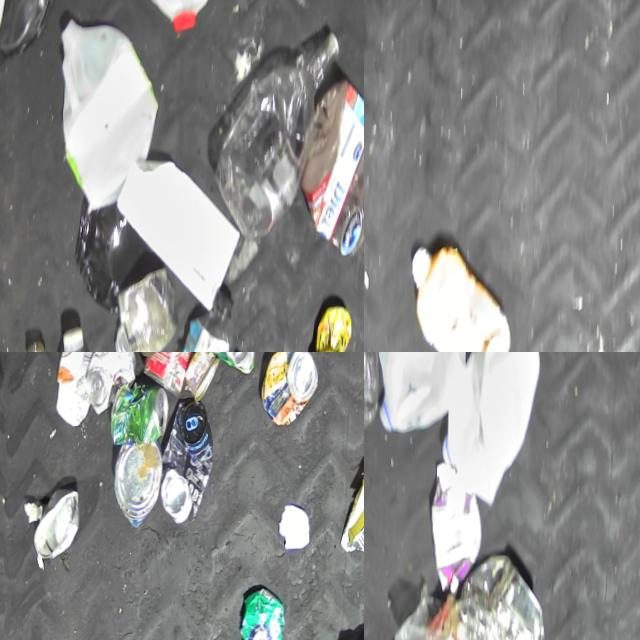can: (443, 551, 545, 640), (157, 403, 213, 529), (107, 263, 181, 352), (259, 352, 317, 432), (111, 444, 161, 533), (111, 382, 169, 450), (32, 490, 80, 566), (84, 352, 136, 418), (140, 352, 206, 400), (238, 590, 285, 640), (306, 307, 352, 352), (182, 352, 219, 405), (202, 352, 254, 381)
milk_jug: (50, 9, 157, 222), (438, 352, 547, 516), (372, 352, 471, 442), (120, 0, 236, 46)
plastic_bottle: (297, 75, 364, 272), (163, 292, 236, 352), (61, 313, 105, 352)
